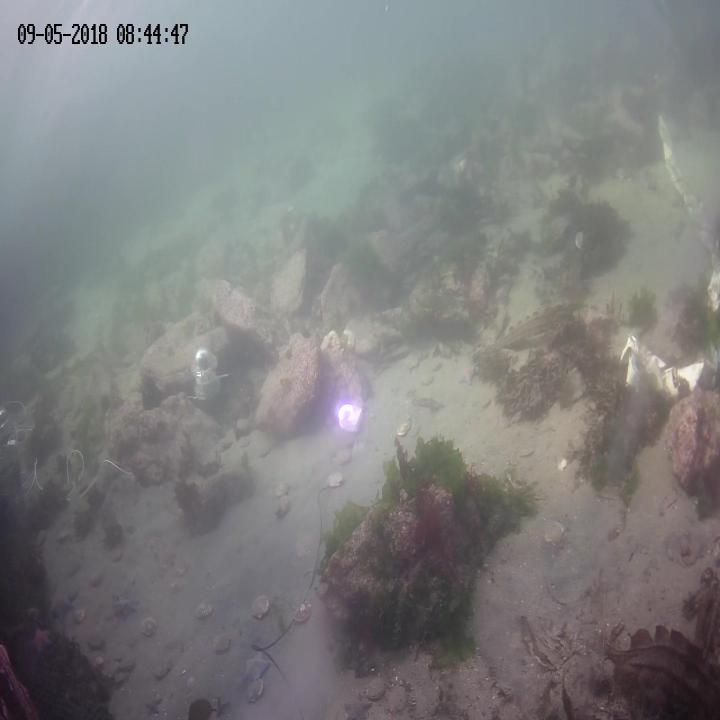scallop: (293, 602, 313, 626), (247, 681, 267, 702), (251, 594, 270, 614), (211, 630, 230, 650), (140, 614, 154, 638), (193, 600, 209, 614), (276, 479, 288, 493), (396, 419, 409, 431)
starfish: (343, 691, 371, 720), (108, 592, 136, 620), (241, 650, 265, 682), (456, 362, 474, 384)
